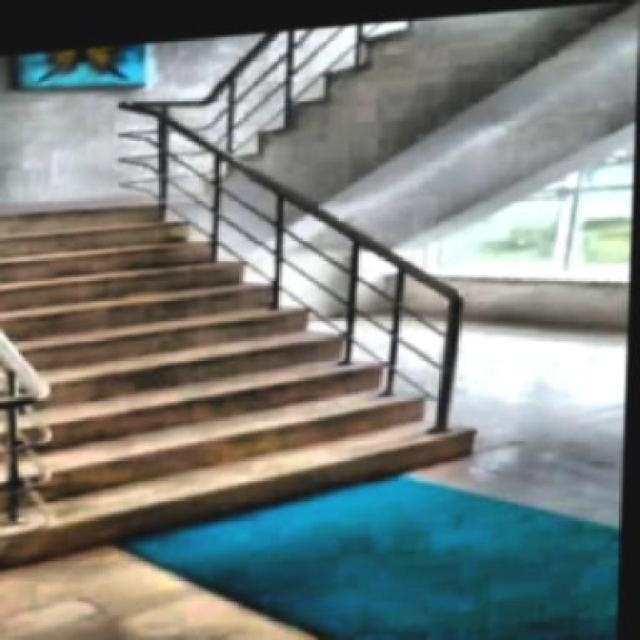stair: (2, 144, 532, 562)
